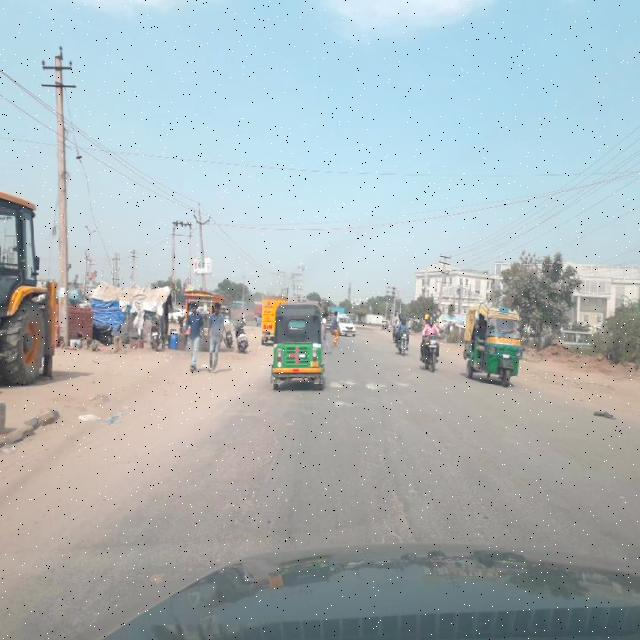D00: (205, 434, 282, 554), (366, 426, 414, 542)
